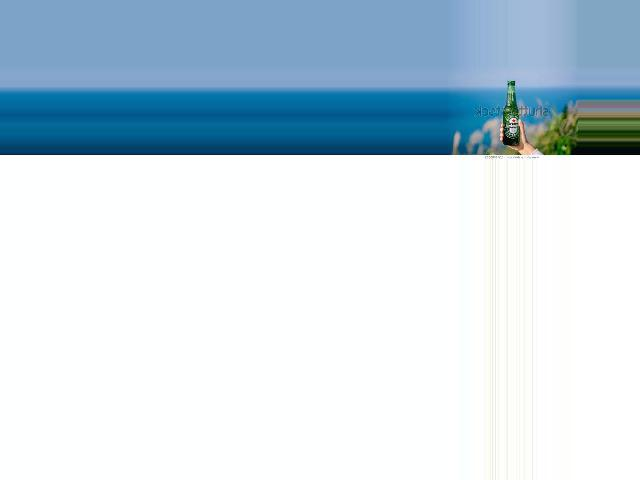beer: (502, 81, 519, 145)
